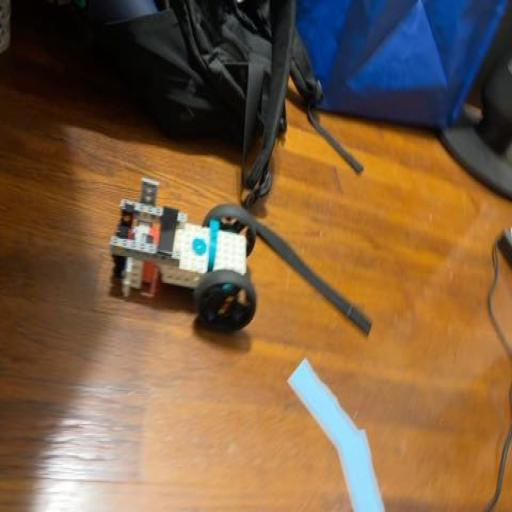Opponent: (108, 172, 262, 338)
